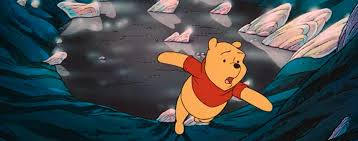Winnie: (199, 37, 249, 113)
